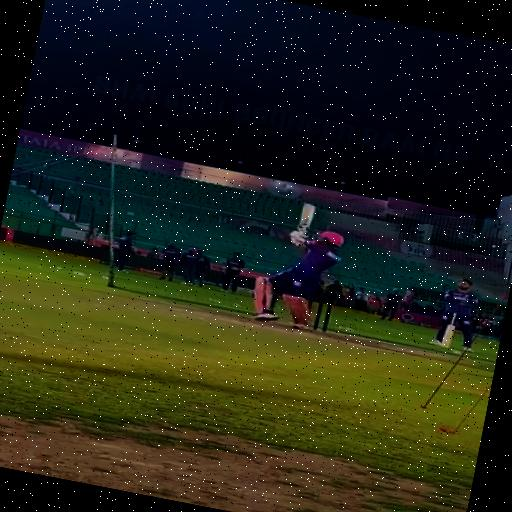Cricket bat: (297, 203, 315, 229)
